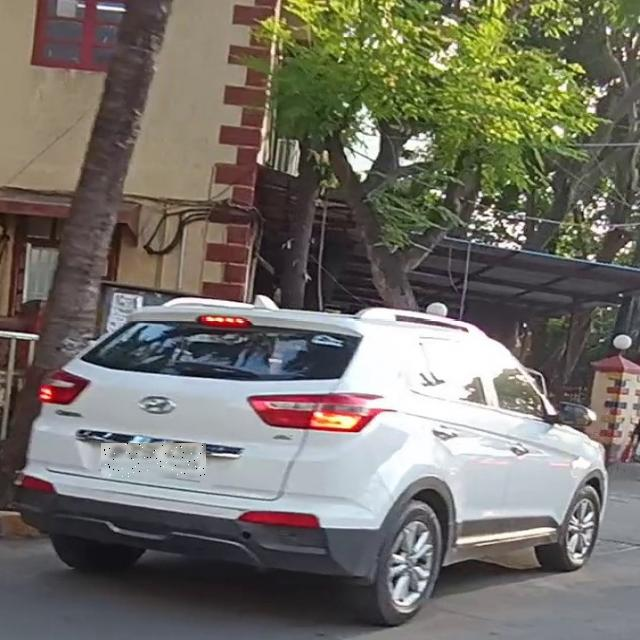Plate: (102, 445, 207, 479)
